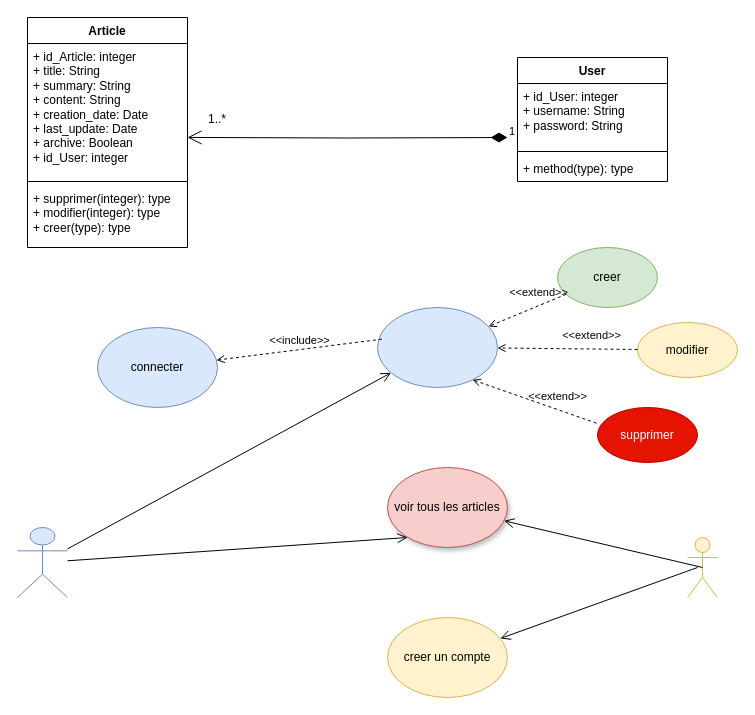
This 755x715 diagram has some shape labels left out. Each missing label, with the centre of its shape:
gerer ses articles: point (437, 347)
utilisateur: point (42, 562)
visiteur: point (702, 567)
